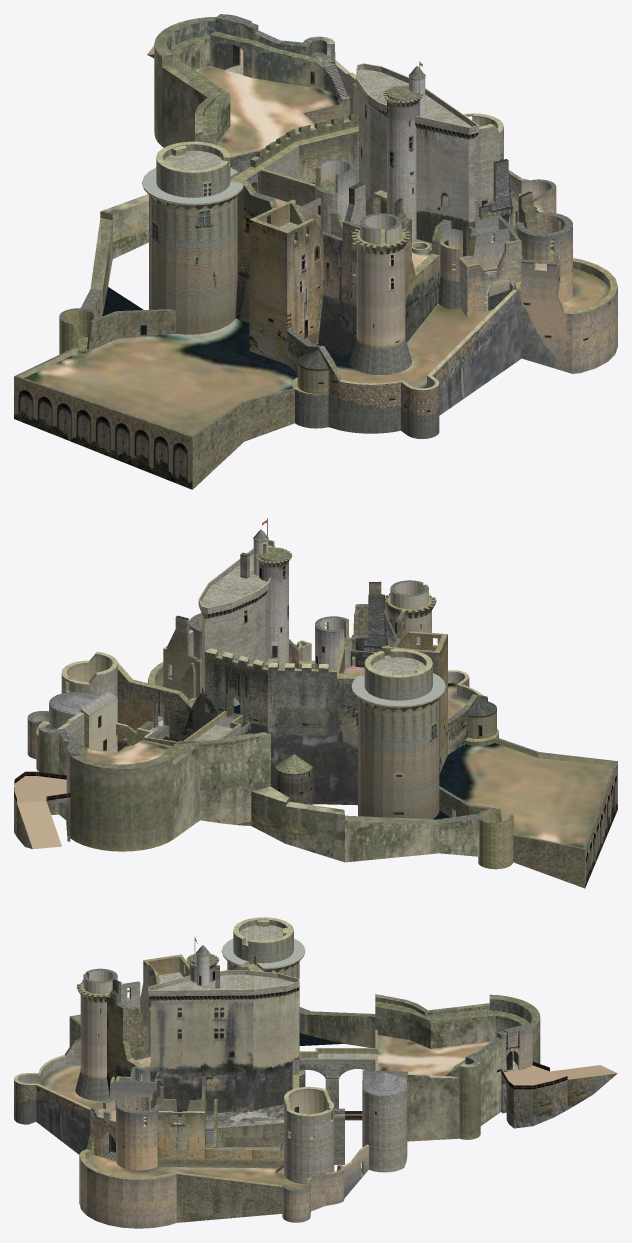
3 views of the same model, one above another, from view 1: azimuth 30°, elevation 25°; view 2: azimuth 150°, elevation 25°; view 3: azimuth 270°, elevation 25° (orthographic). The views are drawn at different scales.
Visible parts, largest first — view 1: SketchUp.2069_ID8539, SketchUp.1471_ID2345, SketchUp.030_ID398, SketchUp.1937_ID7193, SketchUp.1896_ID6767, SketchUp.2247_ID10359, SketchUp.1846_ID6217, SketchUp.1603_ID3676, SketchUp.2126_ID9133, SketchUp_ID3, SketchUp.2090_ID8760, SketchUp.1990_ID7758 (+56 smaller); view 2: SketchUp.030_ID398, SketchUp.2069_ID8539, SketchUp.025_ID337, SketchUp.1408_ID1640, SketchUp.1866_ID6447, SketchUp.1371_ID1258, SketchUp.2212_ID10004, SketchUp.048_ID608, SketchUp.1928_ID7085, SketchUp.1553_ID3158, SketchUp.1358_ID1108, SketchUp.1536_ID2984 (+29 smaller); view 3: SketchUp.2248_ID10374, SketchUp.030_ID398, SketchUp.2104_ID8916, SketchUp.2098_ID8858, SketchUp.2279_ID10673, SketchUp.1978_ID7632, SketchUp.1944_ID7266, SketchUp.1837_ID6102, SketchUp.031_ID413, SketchUp.1937_ID7193, SketchUp.1846_ID6217, SketchUp.2187_ID9751 (+42 smaller).
Part boxes in pixels (x1,y1,x2,y2): SketchUp.2069_ID8539: (24,333,297,435); SketchUp.1471_ID2345: (14,376,192,489); SketchUp.030_ID398: (92,38,230,317); SketchUp.1937_ID7193: (195,65,339,156); SketchUp.1896_ID6767: (167,17,340,98); SketchUp.2247_ID10359: (416,128,468,256); SketchUp.1846_ID6217: (432,282,521,415); SketchUp.1603_ID3676: (249,220,286,364); SketchUp.2126_ID9133: (521,261,572,373); SketchUp_ID3: (192,389,294,489); SketchUp.2090_ID8760: (287,219,323,345); SketchUp.1990_ID7758: (407,303,492,362); SketchUp.030_ID398: (173,734,479,862); SketchUp.2069_ID8539: (444,743,613,847); SketchUp.025_ID337: (70,744,199,851); SketchUp.1408_ID1640: (268,667,357,728); SketchUp.1866_ID6447: (268,727,357,805); SketchUp.1371_ID1258: (358,699,393,817); SketchUp.2212_ID10004: (117,669,204,747); SketchUp.048_ID608: (205,652,267,726); SketchUp.1928_ID7085: (14,776,66,849); SketchUp.1553_ID3158: (513,835,584,888); SketchUp.1358_ID1108: (404,705,423,818); SketchUp.1536_ID2984: (478,810,513,869); SketchUp.2248_ID10374: (150,999,253,1116); SketchUp.030_ID398: (299,997,521,1048); SketchUp.2104_ID8916: (253,991,299,1109); SketchUp.2098_ID8858: (176,1174,282,1222); SketchUp.2279_ID10673: (157,1112,283,1168); SketchUp.1978_ID7632: (96,1172,176,1228); SketchUp.1944_ID7266: (407,1075,459,1141); SketchUp.1837_ID6102: (284,1098,334,1184); SketchUp.031_ID413: (508,1073,617,1128); SketchUp.1937_ID7193: (377,1035,513,1076); SketchUp.1846_ID6217: (36,1085,90,1154); SketchUp.2187_ID9751: (86,1155,306,1189).
Bounding box in the file's own units: 100 × 50.02 × 112.
170 materials, 164 textured.
